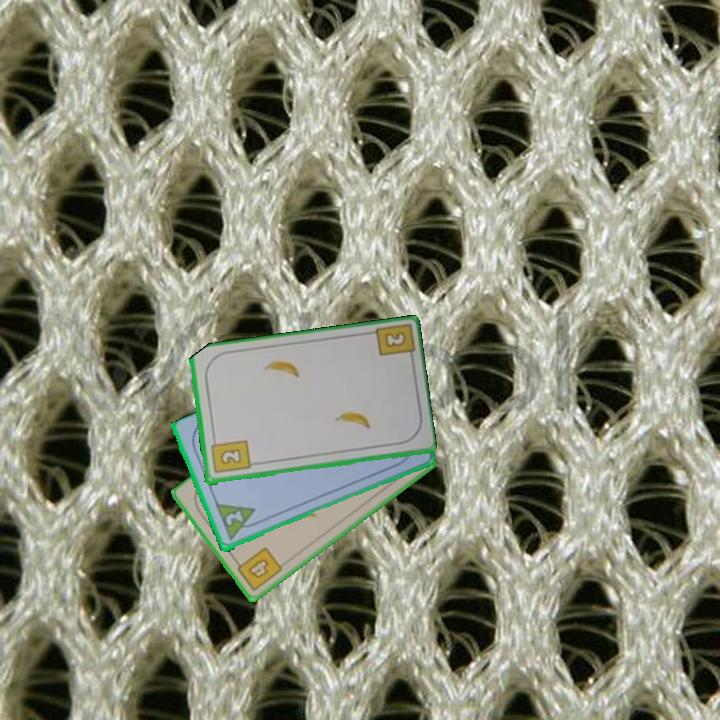2b: (207, 434, 253, 476), (381, 328, 409, 350)
2p: (212, 500, 263, 544)
4b: (231, 544, 285, 594)
